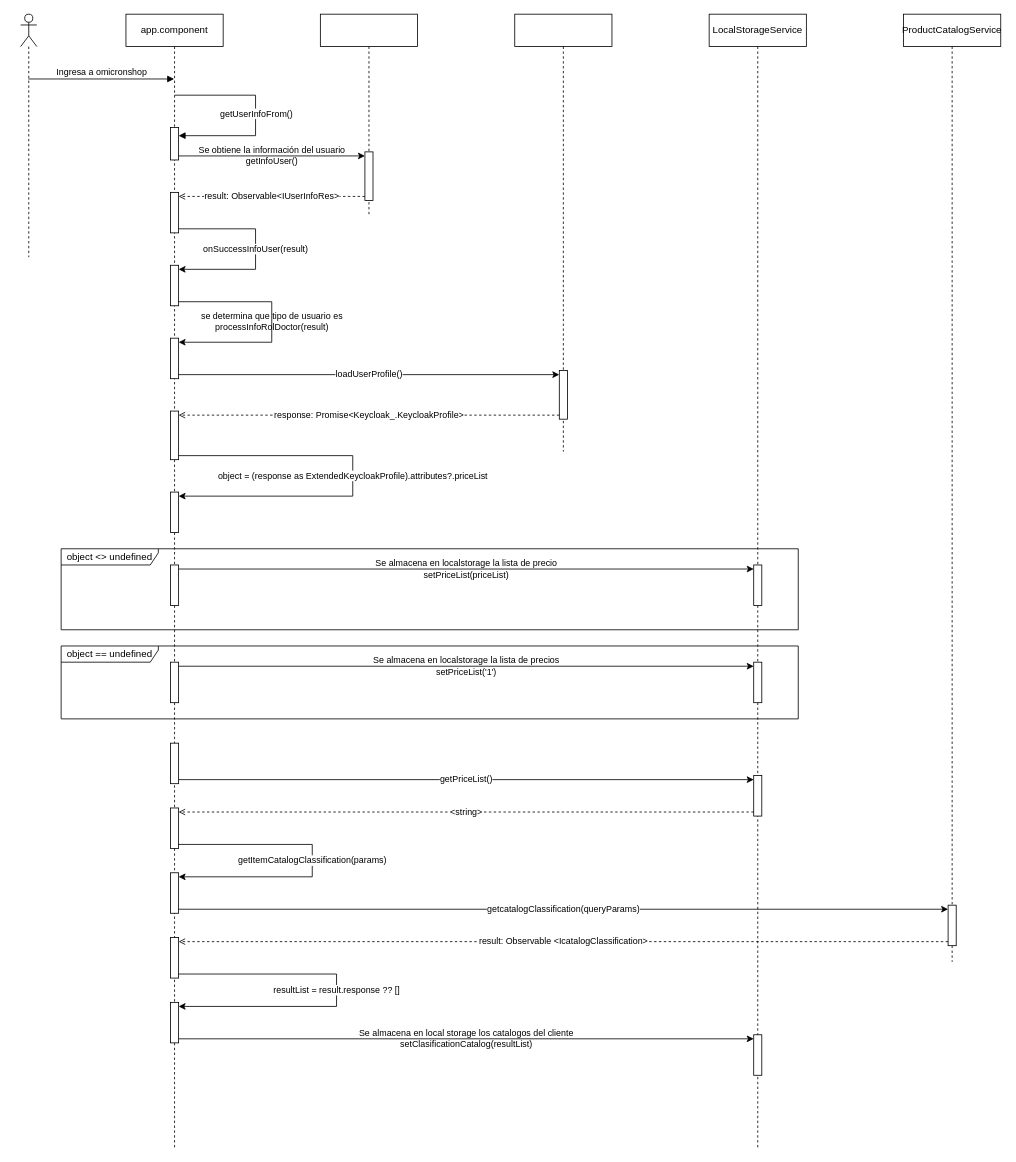
The diagram is 1016 pixels wide and 1162 high, and some of its shapes have lost their labels. The shapes that lost their labels are listed below. From the top down, each one's box as (x1, y1, x2, y2) in pixels, then its label:
(20, 13, 37, 257): Cliente
(320, 13, 418, 217): SecurityService
(514, 13, 612, 452): Keycloak
